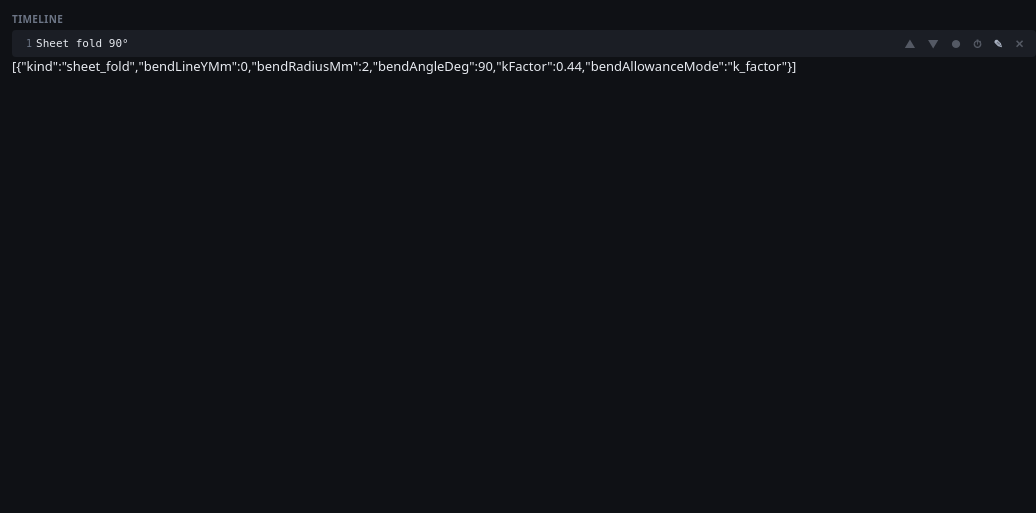
Test: feature timeline re-edit — interactive (happy-dom) › generic editor gates Apply on the REAL schema (invalid value never lands)
Click the button with test id "cad-kernel-edit" at (998, 44), box [989,35,1008,52]
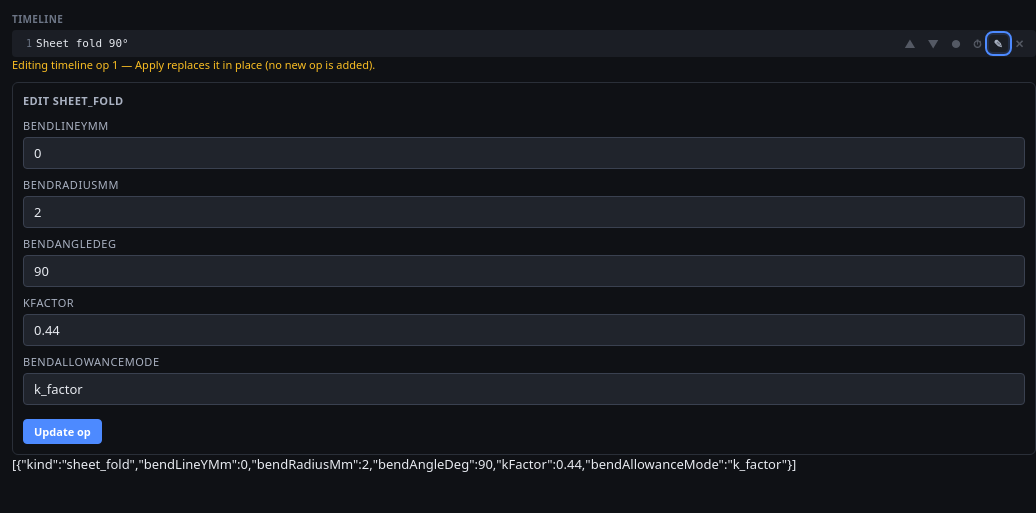
Replace the text in the number field with test id "fd-generic-input-bendAngleDeg" with "999" at (524, 271), box [23,255,1025,287]
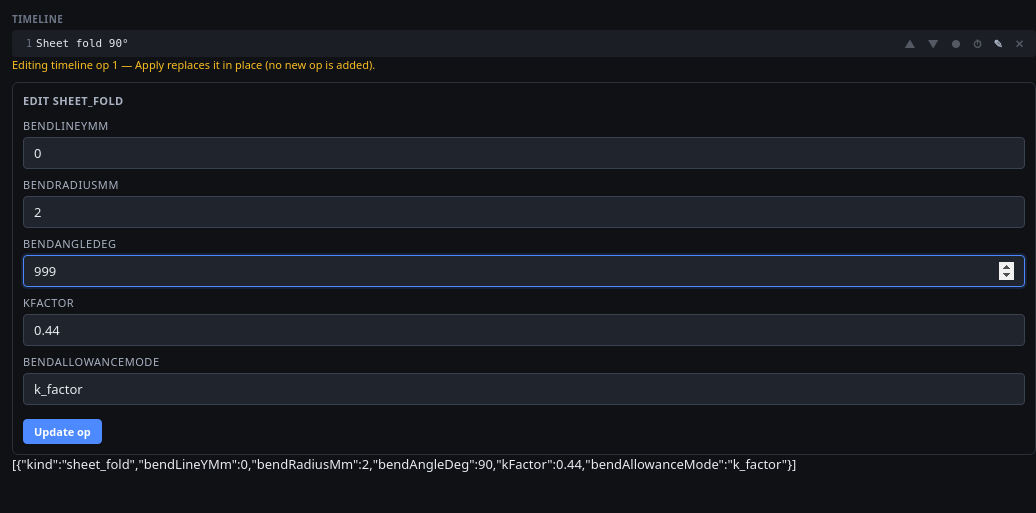
Click the button with test id "fd-generic-apply" at (62, 432), box [23,419,102,444]
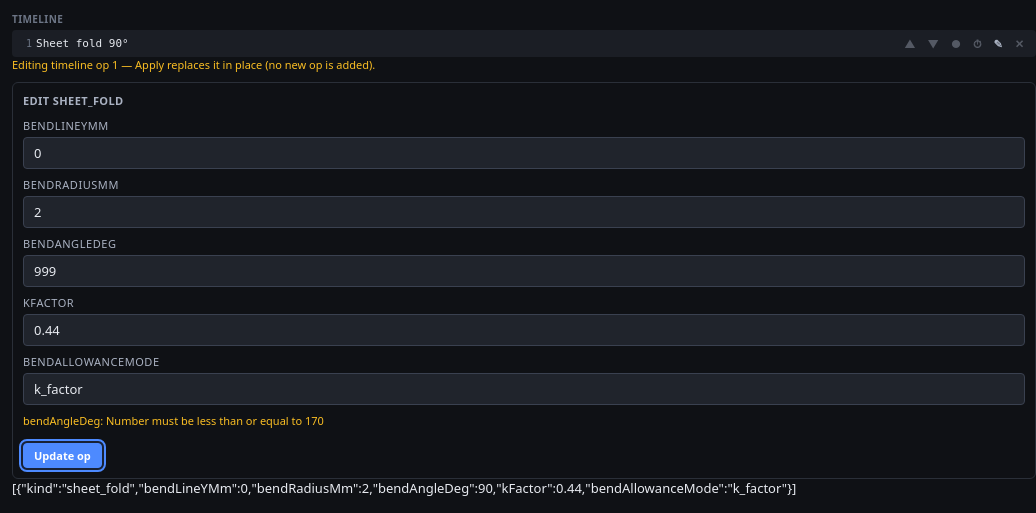
Now the element with test id "fd-edit-host" is shown
Now the message "bendAngleDeg: Number must be less than or equal to 170" is shown, box [23,413,324,428]
